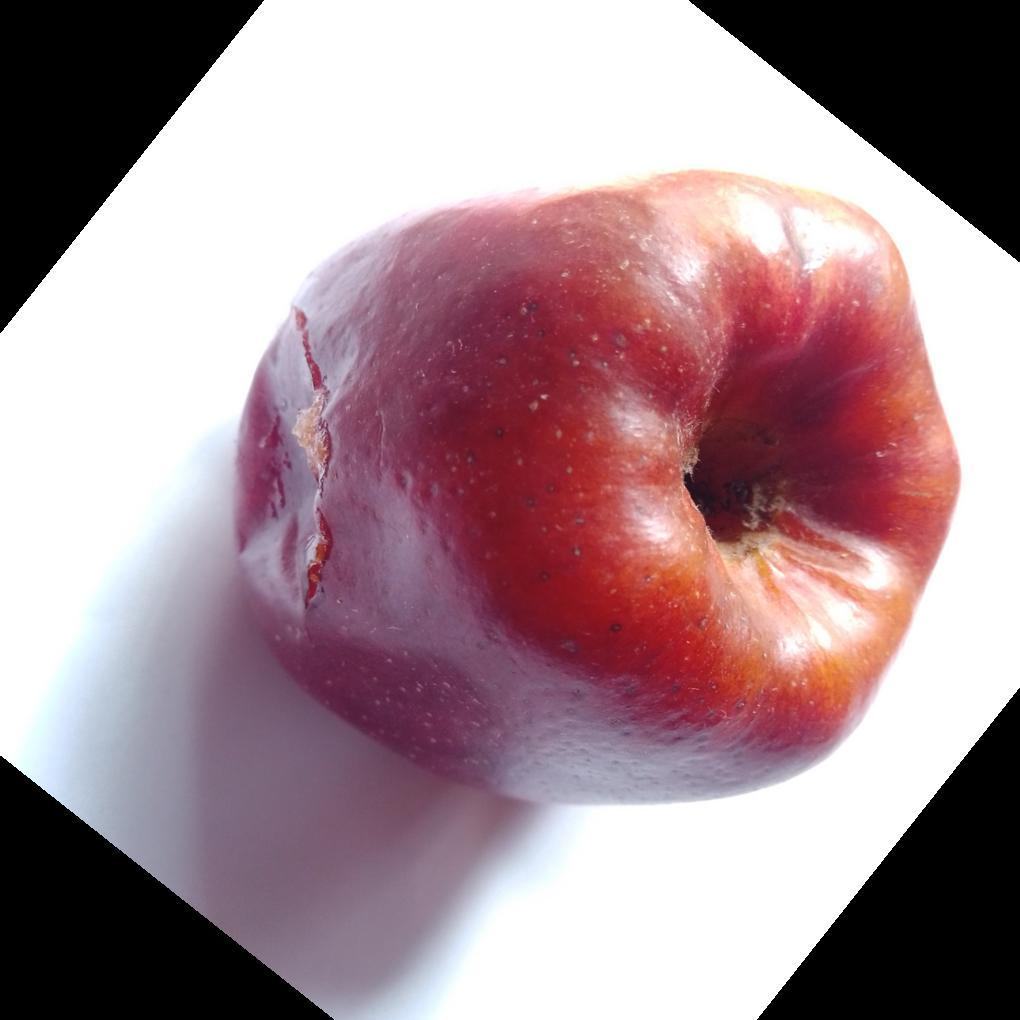FreshOrange: (230, 168, 963, 810)
